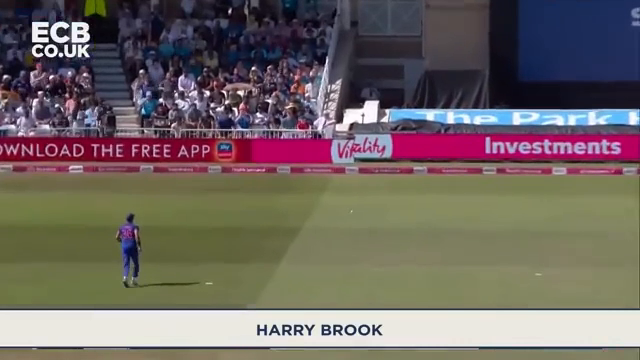fielder: (112, 212, 150, 294)
